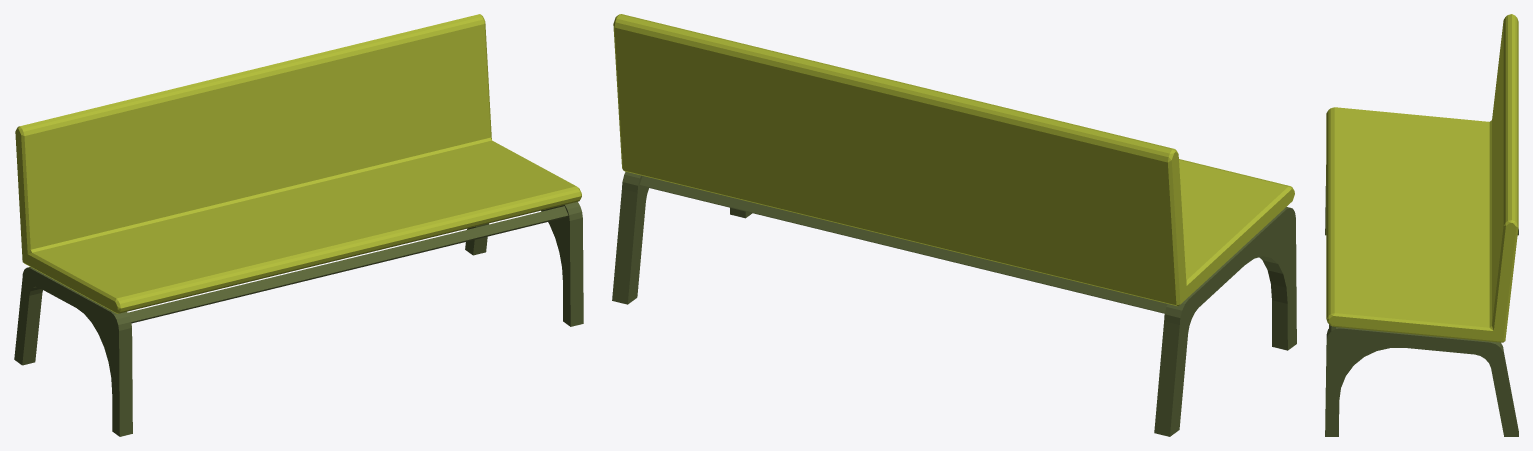
The model's file is Prop_Chair_08.fbx.
3 views of the same model, side by side, from view 1: azimuth 30°, elevation 25°; view 2: azimuth 150°, elevation 25°; view 3: azimuth 270°, elevation 25° (orthographic). The views are drawn at different scales.
Parts seen in each view (by area): view 1: Prop_Chair_08; view 2: Prop_Chair_08; view 3: Prop_Chair_08.
Part boxes in pixels (x1,y1,x2,y2): Prop_Chair_08: (14,14,583,436); Prop_Chair_08: (612,14,1296,436); Prop_Chair_08: (1325,14,1518,436).
Bounding box in the file's own units: 198 × 96.04 × 77.96.
